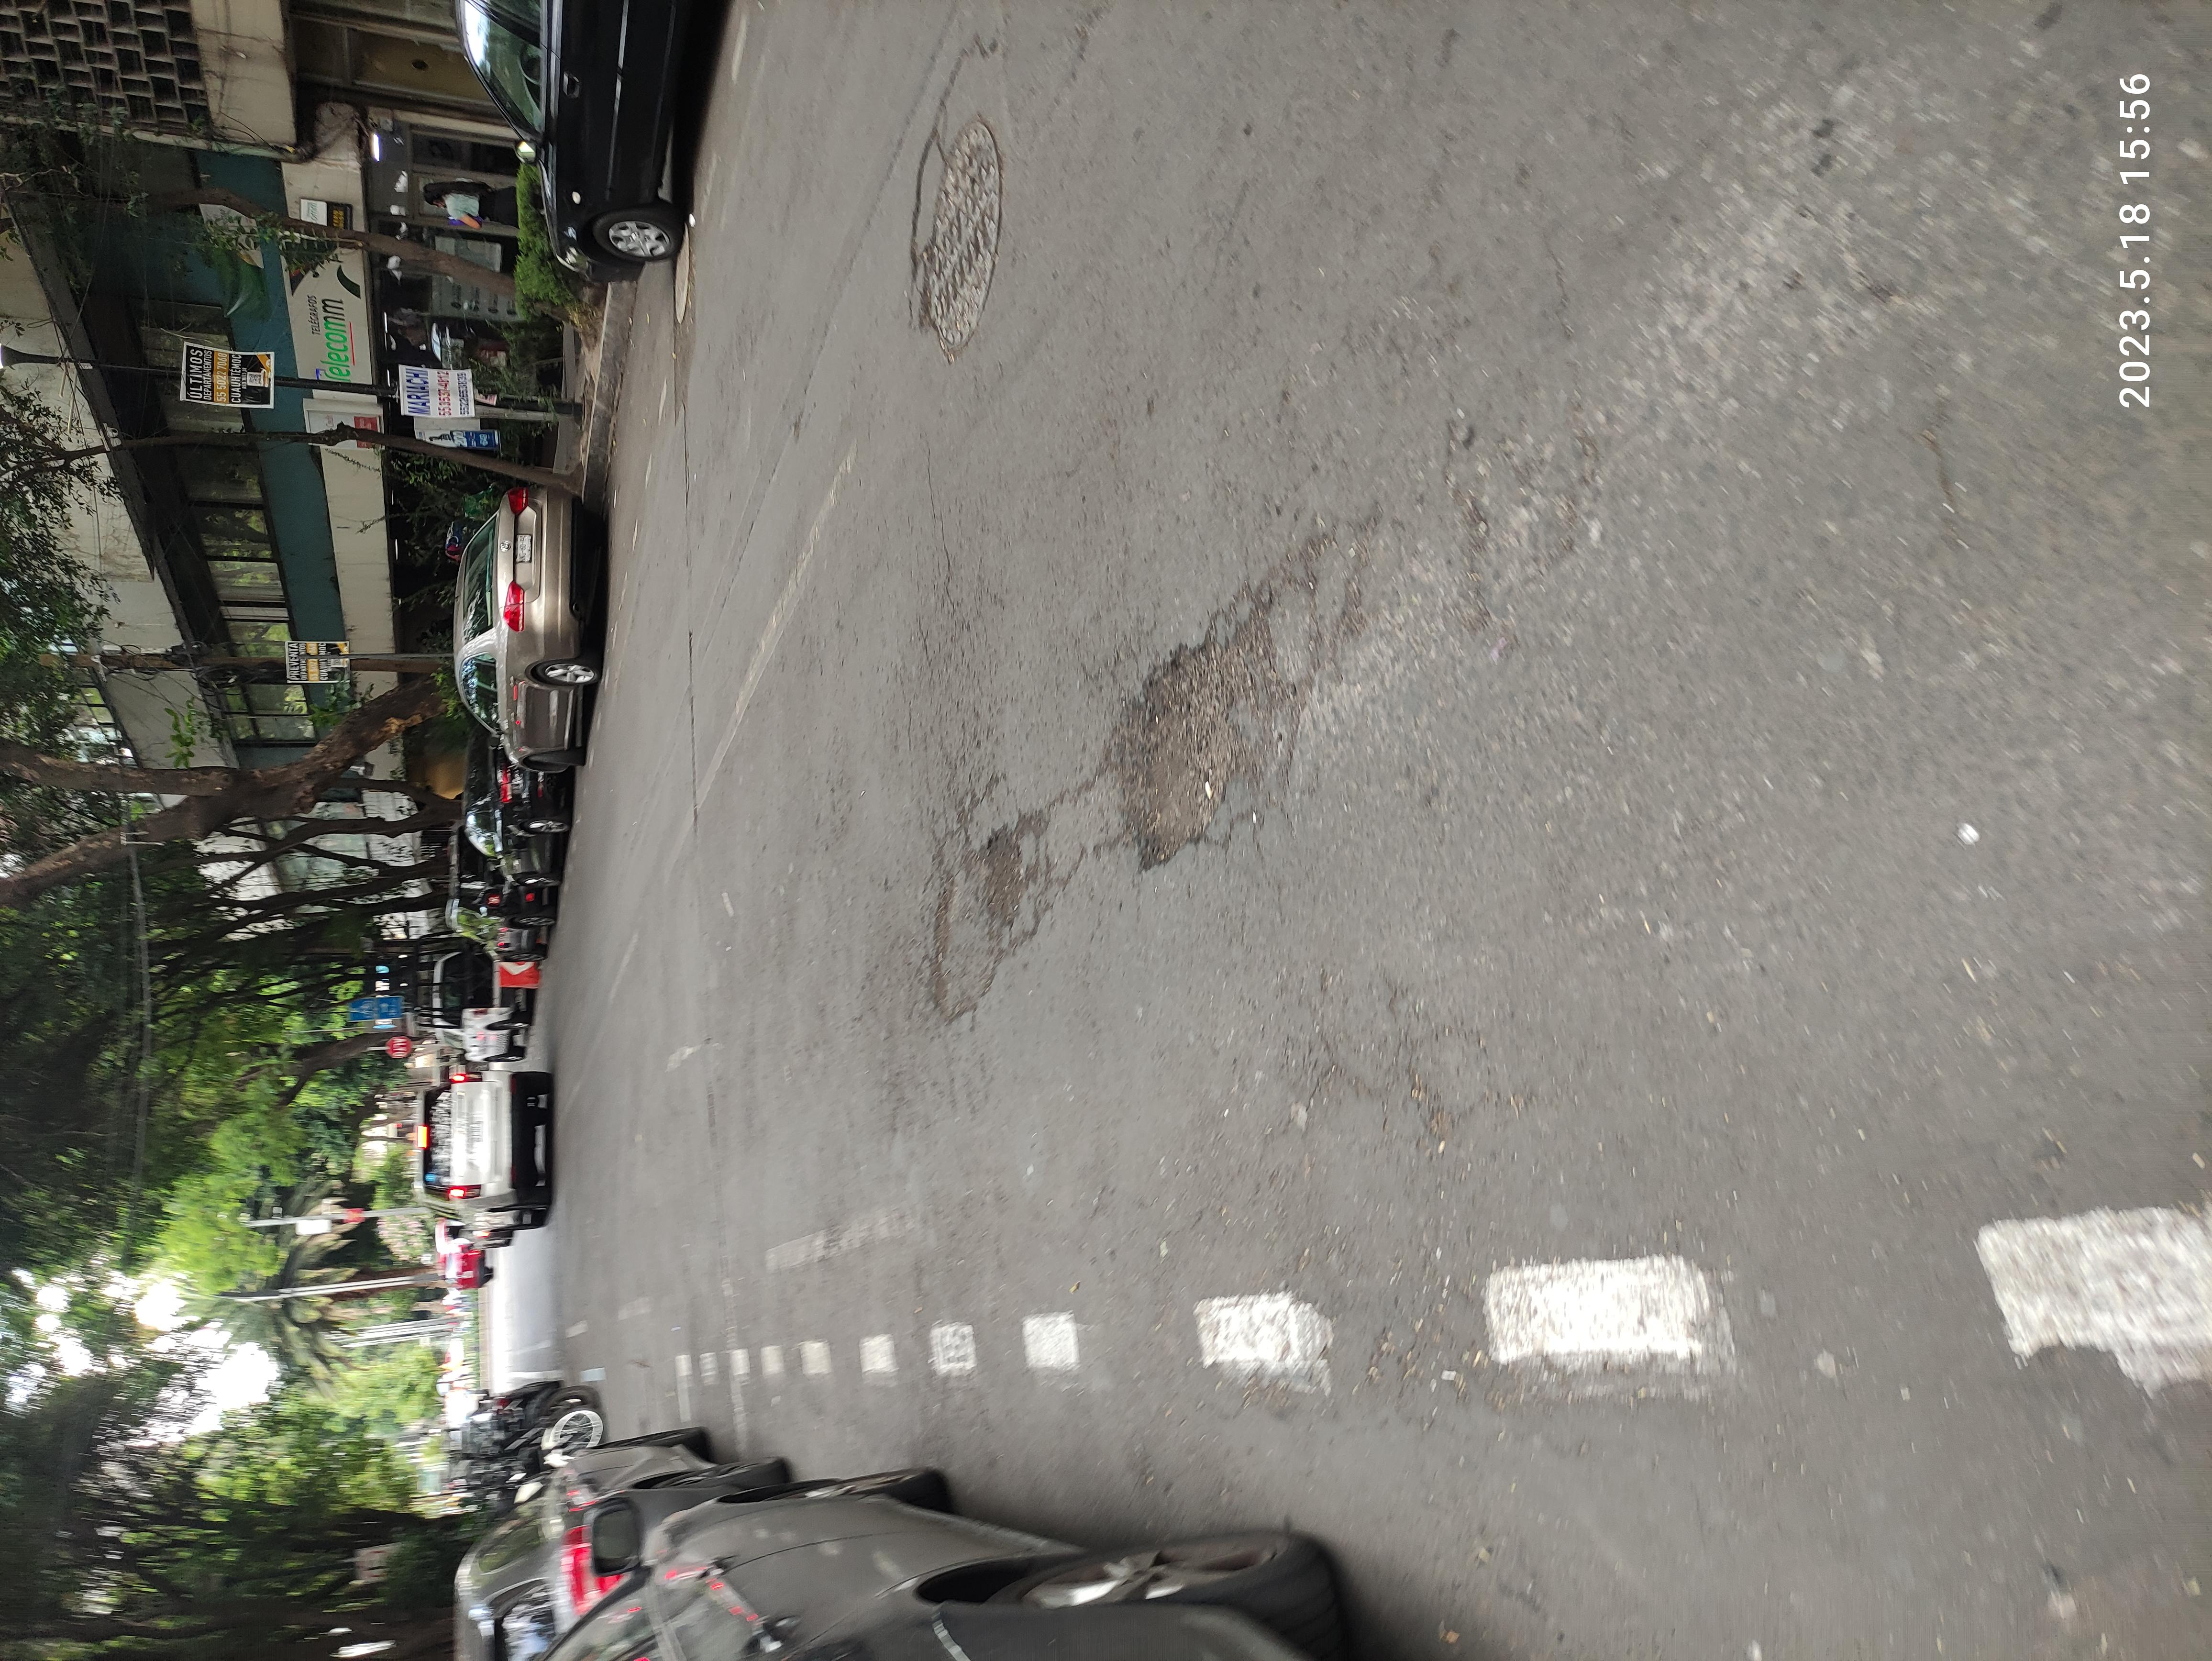pothole: (1034, 830, 1434, 967), (825, 691, 1144, 792)
